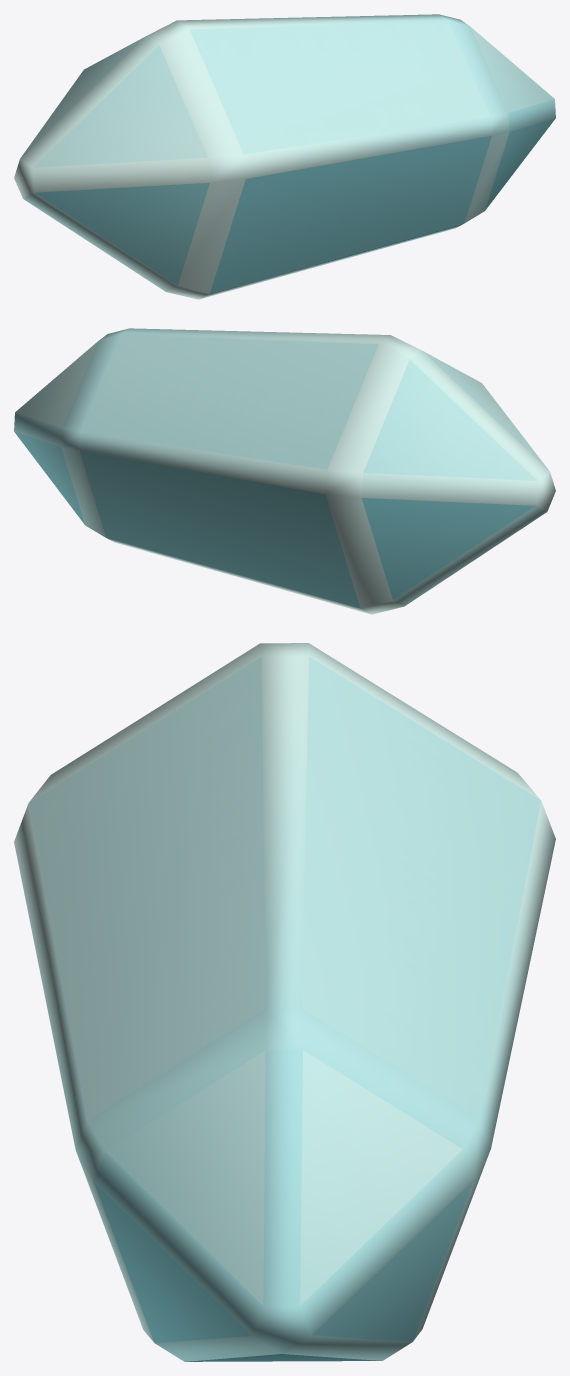
Rendered from christal_diamond_6.fbx.
The picture shows the model from 3 angles, top to bottom: view 1: azimuth 30°, elevation 25°; view 2: azimuth 150°, elevation 25°; view 3: azimuth 270°, elevation 25°; orthographic projection. The views are drawn at different scales.
Visible parts, largest first — view 1: christal_diamond_6; view 2: christal_diamond_6; view 3: christal_diamond_6.
Boxes of the visible parts, <box> form: christal_diamond_6: <box>14,14,555,299</box>; christal_diamond_6: <box>14,328,555,614</box>; christal_diamond_6: <box>14,643,555,1361</box>.
Size of the model in its own units: 67.5 by 29.59 by 31.25.
1 material, 1 textured.
